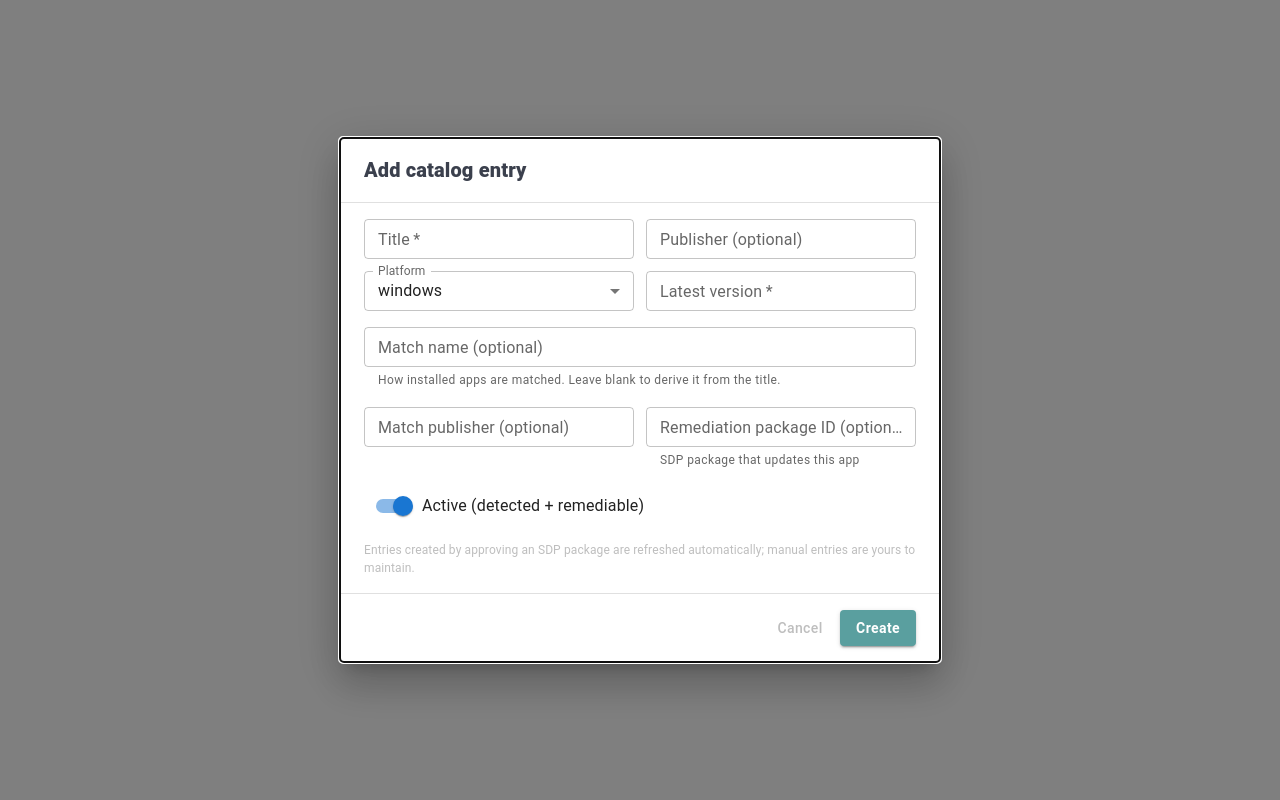
it: CatalogDialog › rejects a non-positive packageId
Type "X" into the field labelled "Title *".
click(499, 239); type("X")  # box [364, 219, 634, 259]
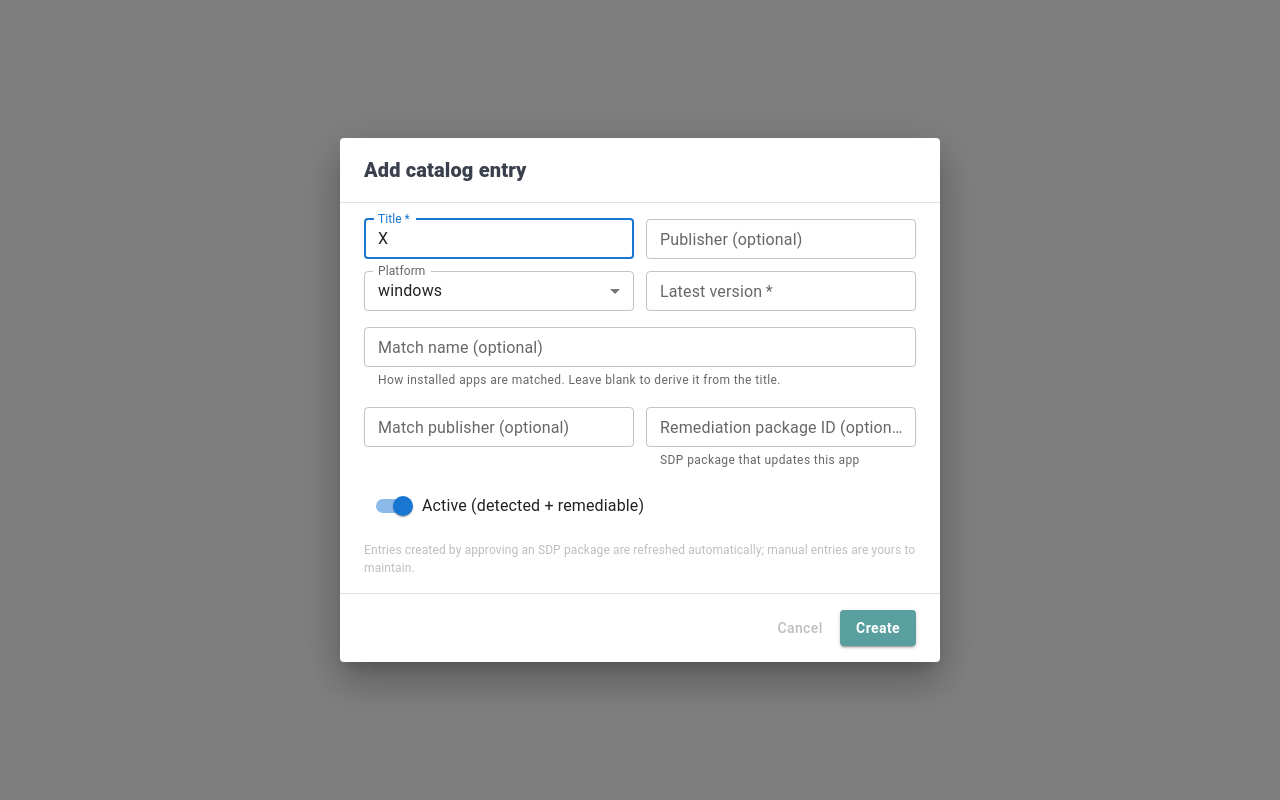
Type "1.0" into the field labelled "Latest version *".
click(781, 291); type("1.0")  # box [646, 271, 916, 311]
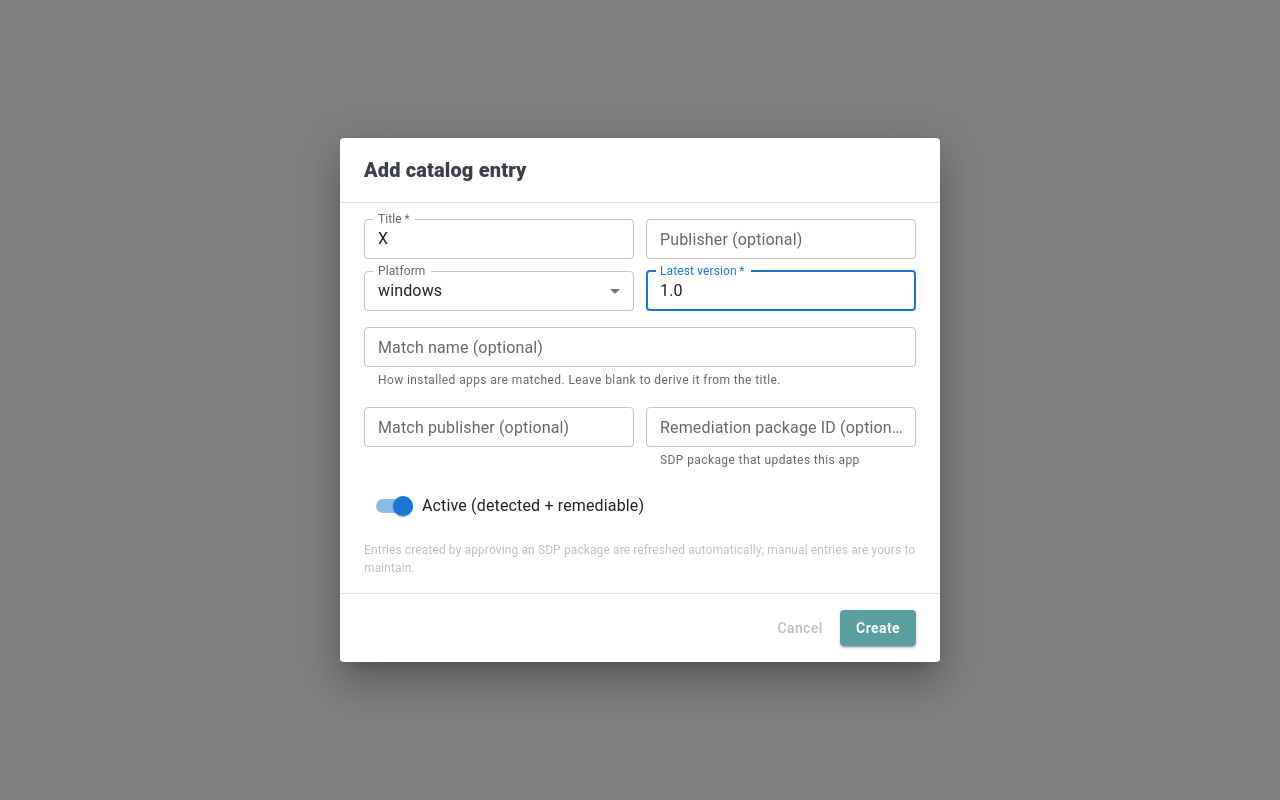
Type "0" into the number field labelled "Remediation package ID (optional)".
click(781, 427); type("0")  # box [646, 407, 916, 447]
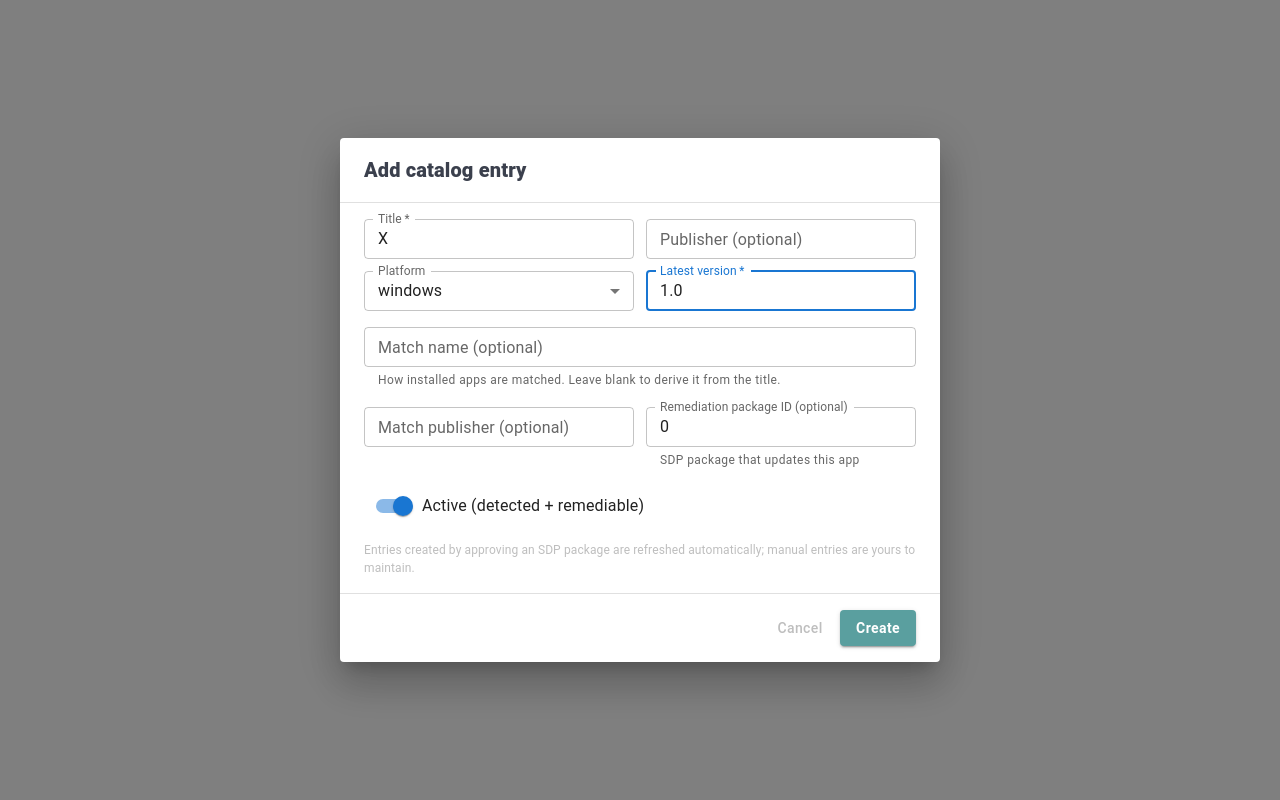
Click the button "Create".
click(878, 628)  # box [840, 610, 916, 646]
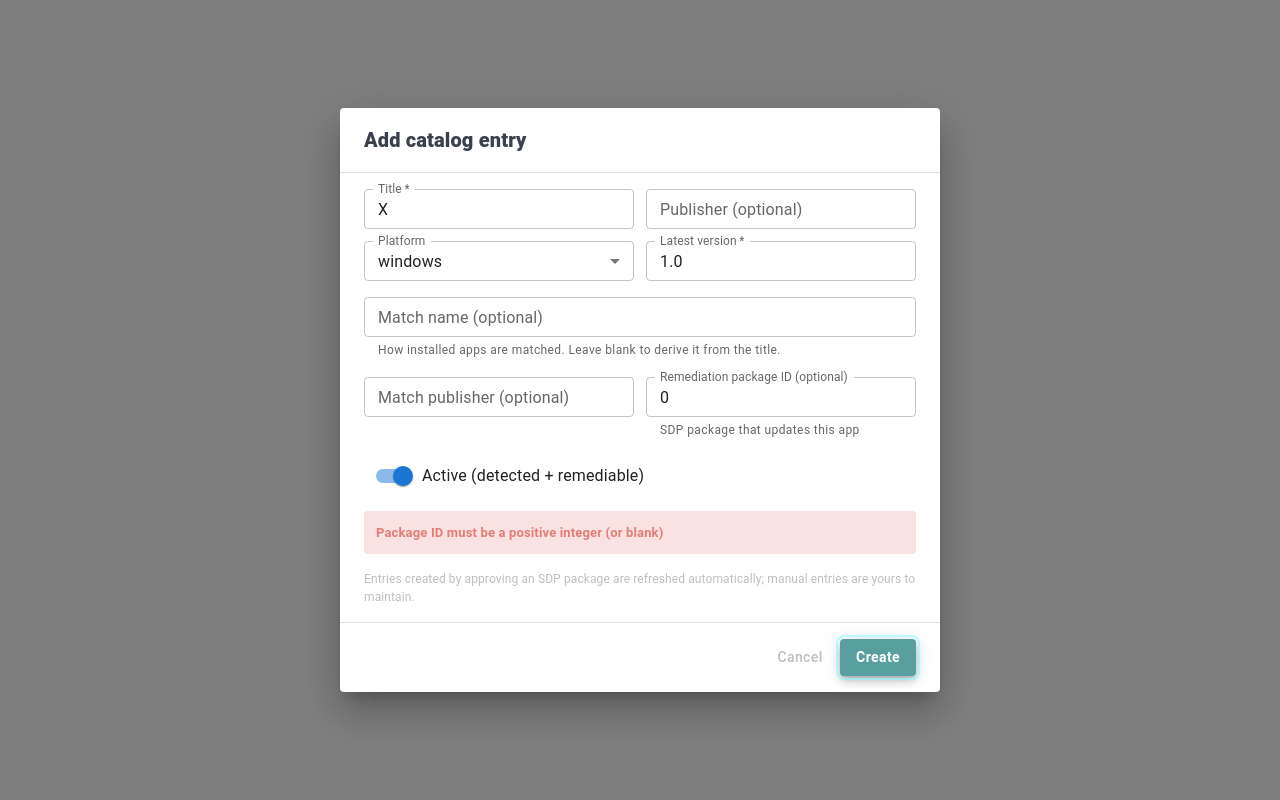
Check: the text "Package ID must be a positive integer (or blank)" is shown, box [364, 511, 916, 554]
